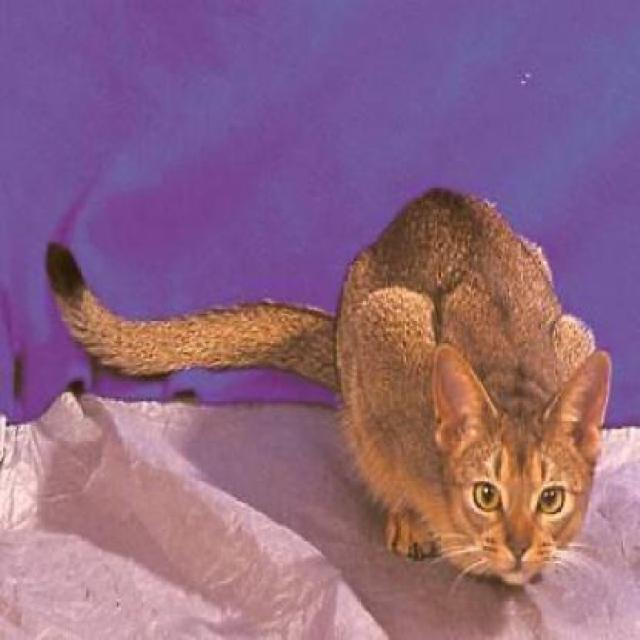cat: (44, 185, 613, 587)
